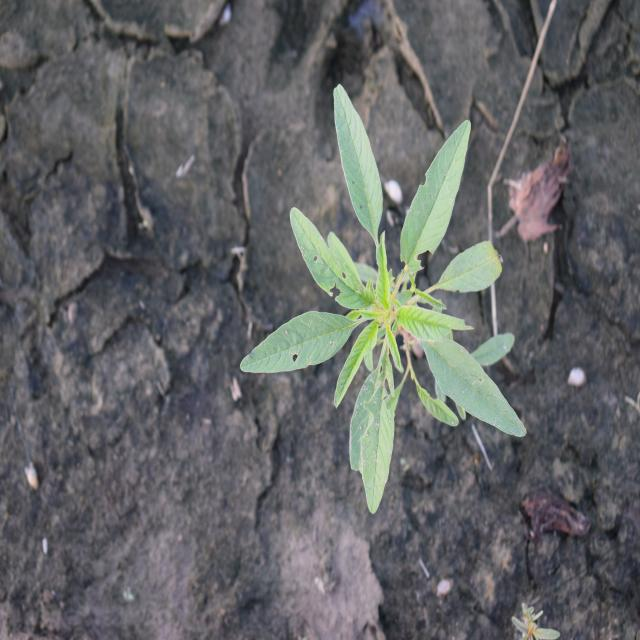Waterhemp: (238, 78, 529, 516)
